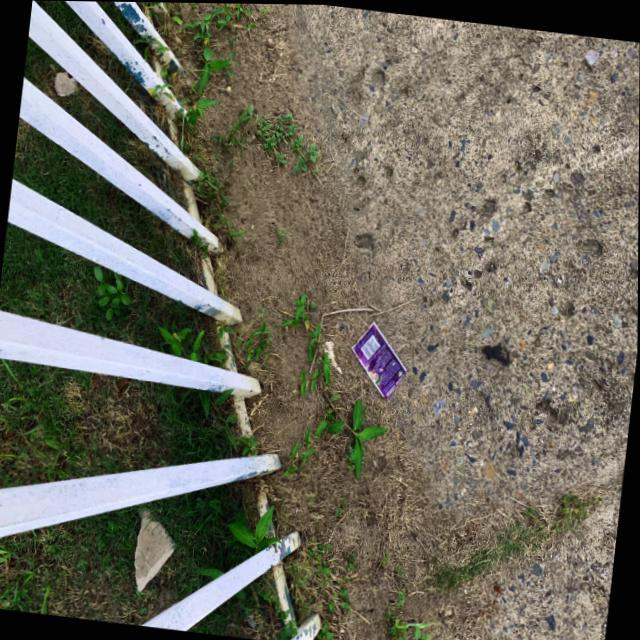Paper: (319, 335, 347, 374)
Plastic: (344, 312, 414, 400)
